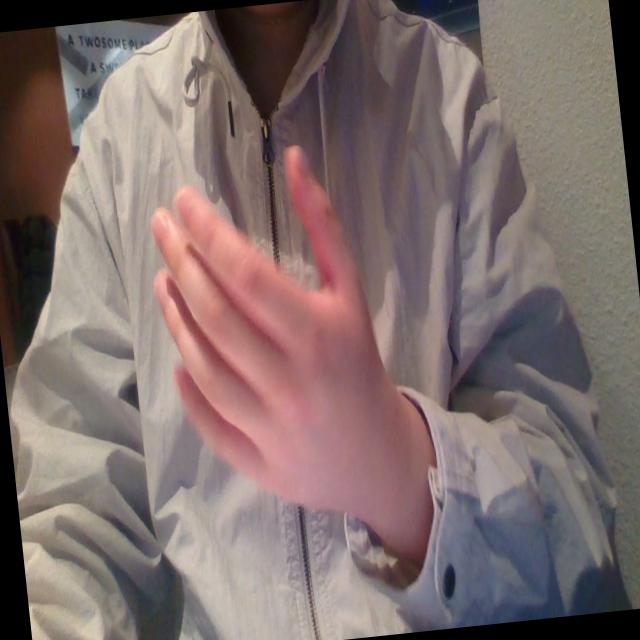hand: (133, 142, 398, 570)
